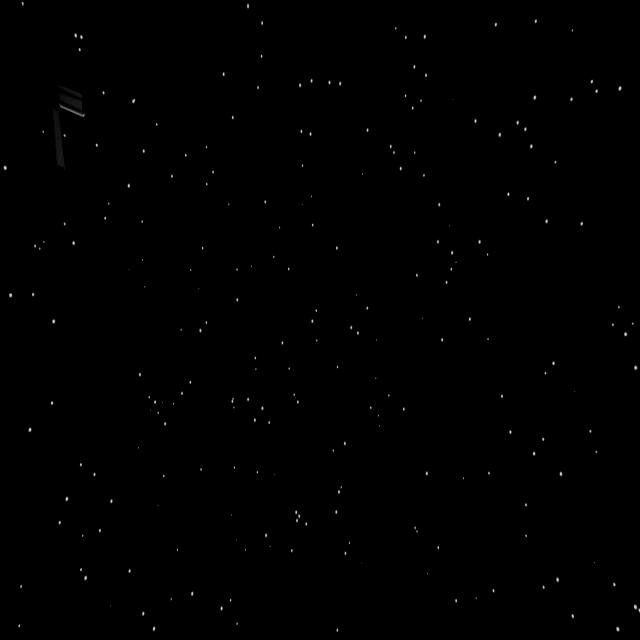satellite: (2, 67, 91, 174)
